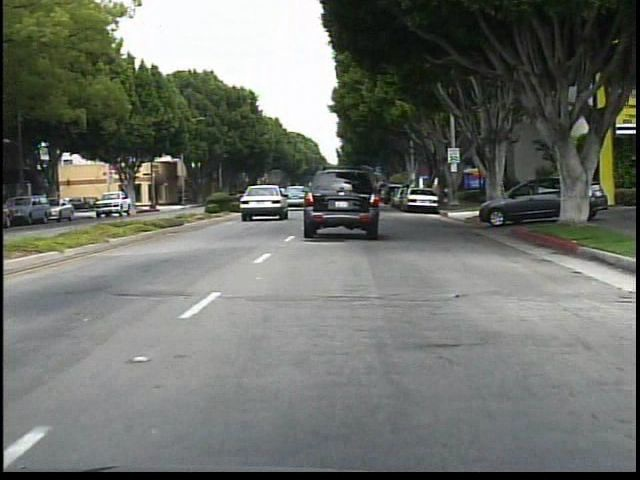person: (488, 170, 507, 210)
